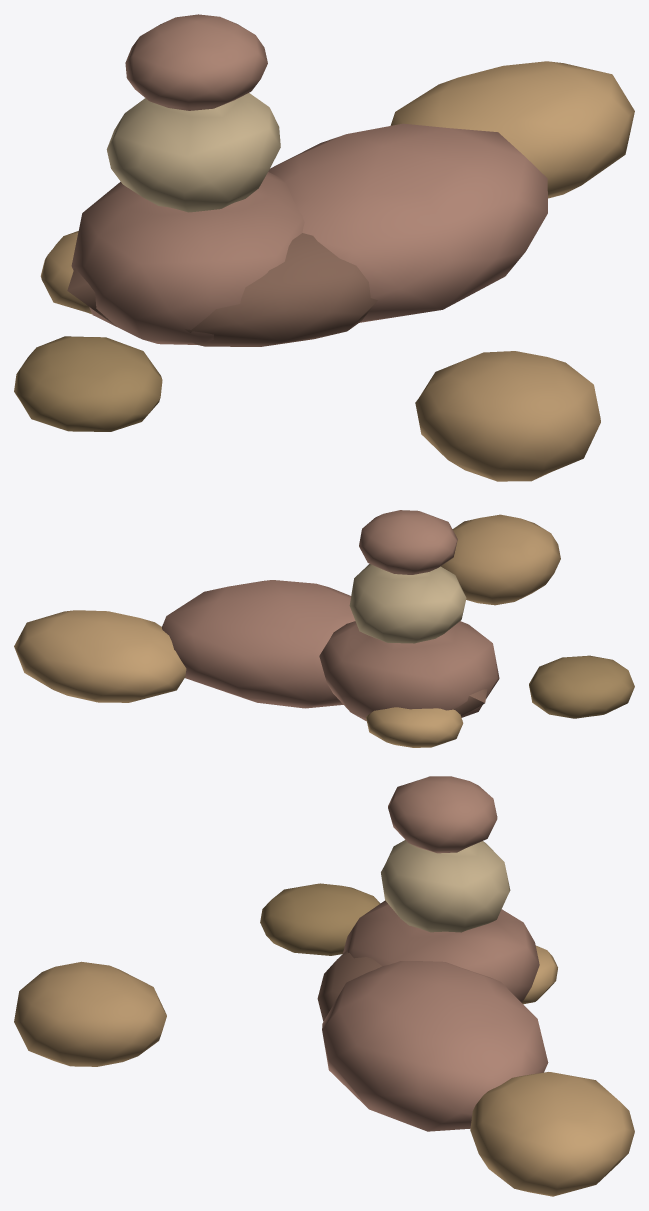
The model's file is stone_scatter_a.glb.
3 renders of one model, top to bottom at view 1: azimuth 30°, elevation 25°; view 2: azimuth 150°, elevation 25°; view 3: azimuth 270°, elevation 25°, orthographic. The views are drawn at different scales.
Parts seen in each view (by area): view 1: Surface; view 2: Surface; view 3: Surface.
Boxes of the visible parts, box(x1,y1,x2,y2) form: Surface: box(14, 14, 634, 481); Surface: box(14, 510, 634, 747); Surface: box(14, 776, 634, 1196).
Bounding box in the file's own units: 1.7 × 0.6773 × 1.54.
